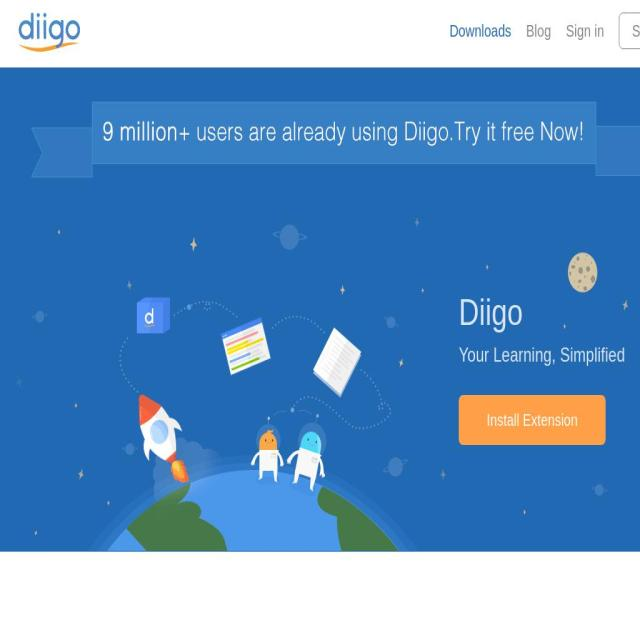button: (0, 5, 98, 55), (459, 416, 606, 428), (619, 13, 640, 49)
image: (0, 197, 640, 551), (30, 101, 640, 177), (46, 582, 298, 640)
link: (566, 22, 605, 40), (526, 22, 551, 40)
text: (459, 284, 625, 340), (459, 395, 606, 445), (459, 340, 625, 370), (0, 5, 98, 55), (449, 22, 512, 40)
